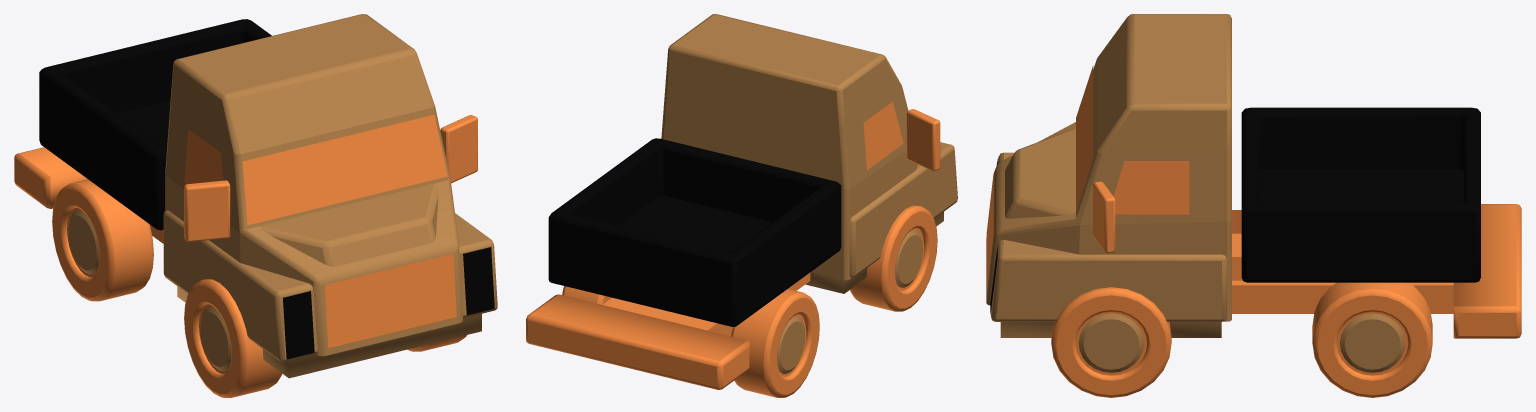
The model's file is truck-002.fbx.
3 renders of one model, left to right at view 1: azimuth 30°, elevation 25°; view 2: azimuth 150°, elevation 25°; view 3: azimuth 270°, elevation 25°, orthographic. The views are drawn at different scales.
Parts seen in each view (by area): view 1: truck-002; view 2: truck-002; view 3: truck-002.
Part boxes in pixels (x1,y1,x2,y2): truck-002: (14,14,497,397); truck-002: (526,14,957,397); truck-002: (986,14,1521,397).
Size of the model in its own units: 1.06 by 0.9958 by 1.7.
